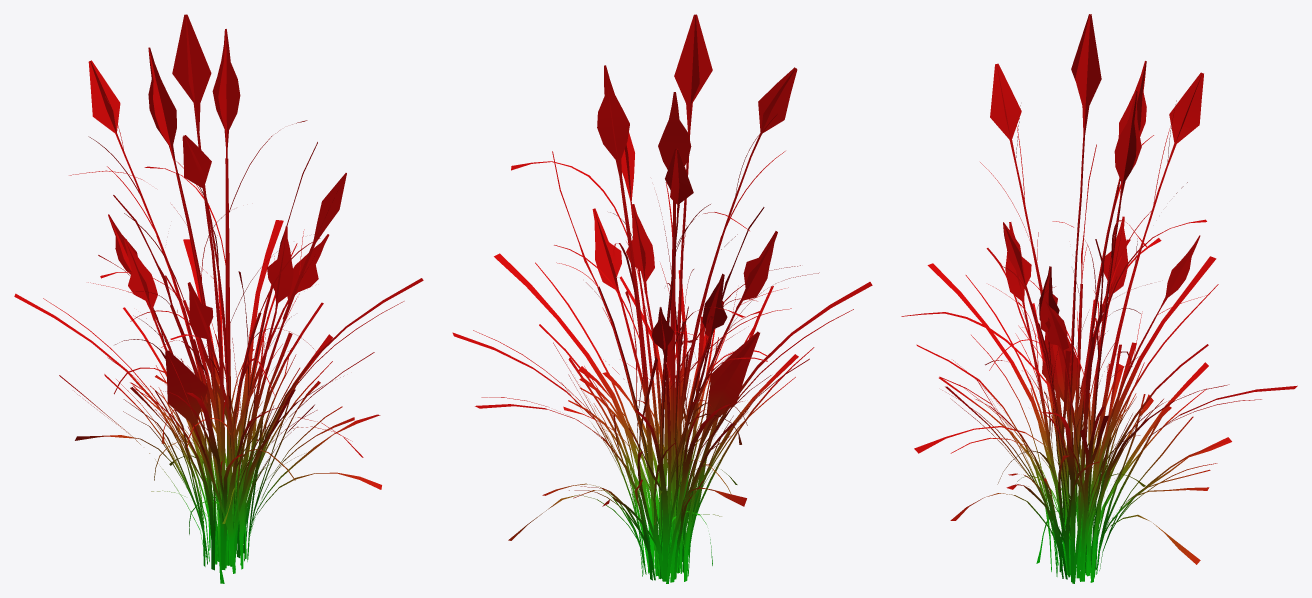
Rendered from Rough Meadow Grass_LOD1_Var2_skFjJ.fbx.
The picture shows the model from 3 angles, left to right: view 1: azimuth 30°, elevation 25°; view 2: azimuth 150°, elevation 25°; view 3: azimuth 270°, elevation 25°; orthographic projection. The views are drawn at different scales.
Parts seen in each view (by area): view 1: _de35_Var2_LOD1; view 2: _de35_Var2_LOD1; view 3: _de35_Var2_LOD1.
Part boxes in pixels (x1,y1,x2,y2): _de35_Var2_LOD1: [14, 14, 423, 583]; _de35_Var2_LOD1: [452, 14, 872, 583]; _de35_Var2_LOD1: [901, 14, 1297, 583].
Size of the model in its own units: 104 by 169 by 112.
